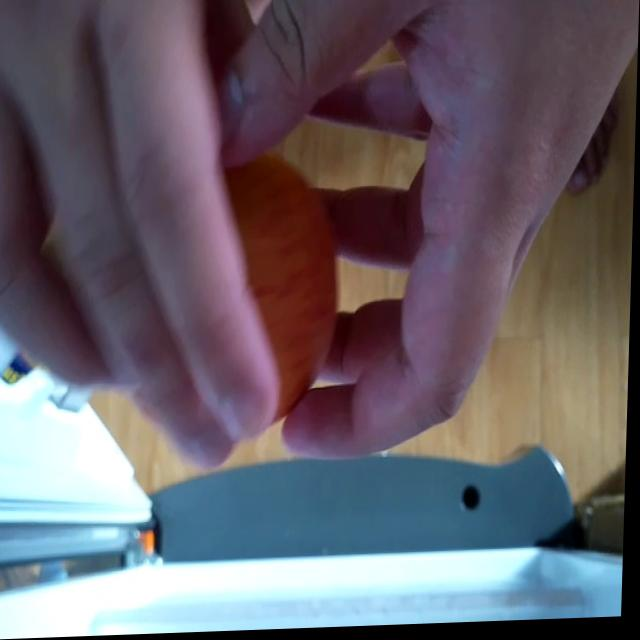apple: (214, 154, 346, 417)
